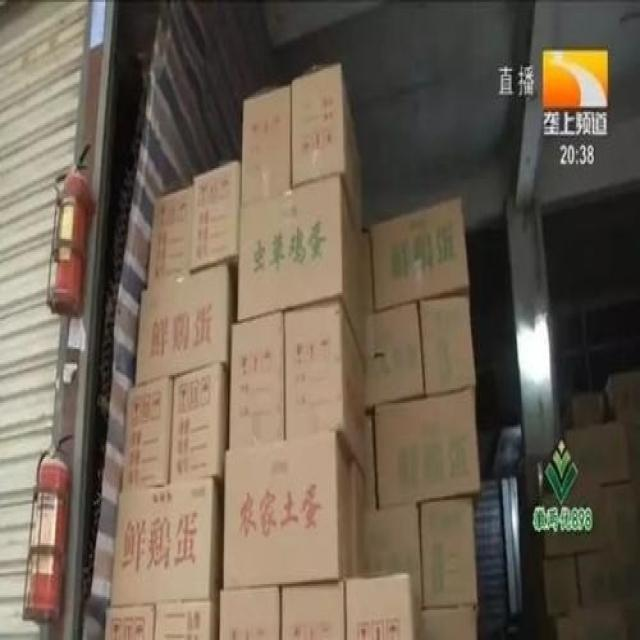box: (238, 173, 367, 361), (223, 431, 352, 588), (285, 298, 369, 486), (111, 476, 225, 606), (373, 388, 481, 506), (137, 262, 236, 385), (291, 64, 363, 232), (370, 196, 469, 310), (227, 311, 286, 447), (168, 364, 230, 487), (186, 160, 241, 276), (366, 300, 425, 408), (120, 376, 175, 490), (420, 497, 476, 608), (240, 84, 292, 203), (365, 502, 423, 607), (543, 483, 618, 558), (419, 295, 475, 394), (346, 572, 428, 638), (565, 420, 628, 490), (553, 590, 639, 638), (148, 189, 189, 286), (282, 579, 347, 638), (575, 543, 639, 602), (216, 585, 281, 638), (155, 597, 220, 638), (544, 553, 582, 615), (421, 603, 476, 638), (603, 371, 639, 422), (561, 395, 607, 434), (105, 602, 156, 637), (353, 463, 367, 576), (616, 478, 639, 544), (367, 411, 378, 509), (622, 422, 639, 480), (365, 228, 376, 311)
